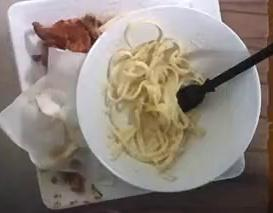pasta: (106, 37, 203, 170)
unknown: (33, 14, 102, 53)
